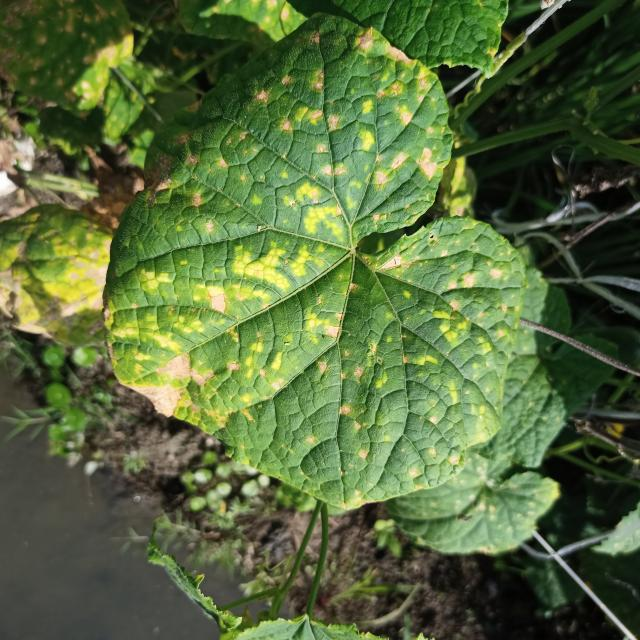disease_cucumber: (110, 32, 525, 467)
